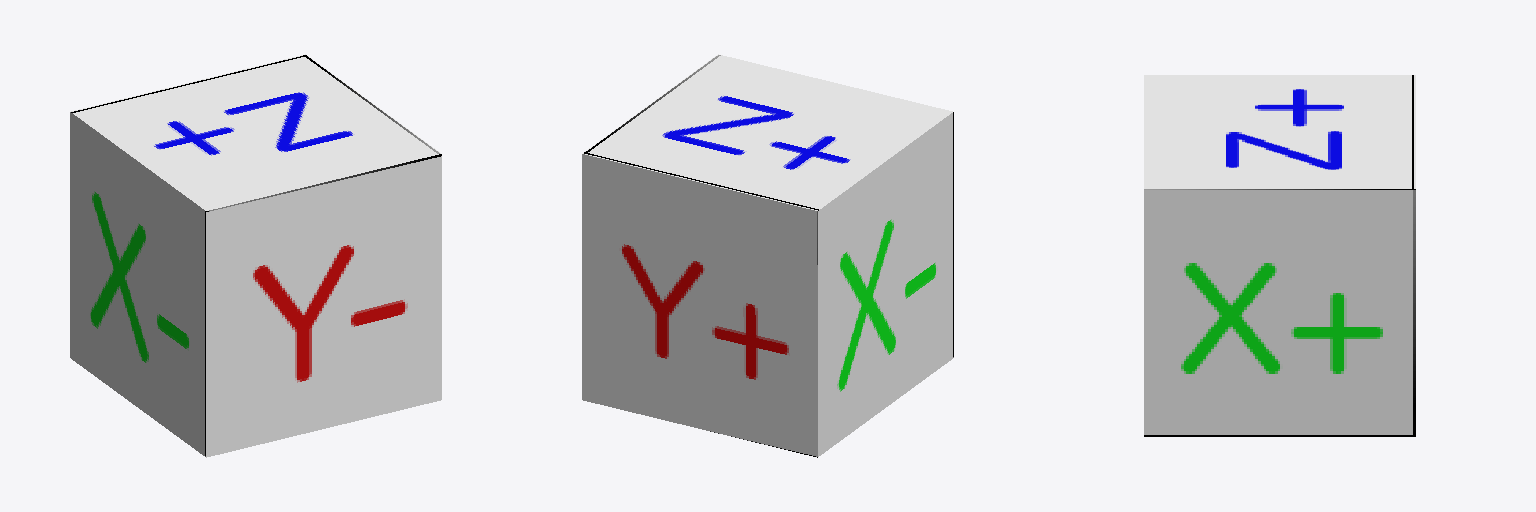
3 views of the same model, side by side, from view 1: azimuth 30°, elevation 25°; view 2: azimuth 150°, elevation 25°; view 3: azimuth 270°, elevation 25° (orthographic).
Visible parts, largest first — view 1: Cube; view 2: Cube; view 3: Cube.
Part boxes in pixels (bbox=[...]): Cube: bbox=[70, 54, 441, 457]; Cube: bbox=[582, 54, 953, 457]; Cube: bbox=[1144, 75, 1415, 436].
Size of the model in its own units: 2 by 2 by 2.
Materials: 1 (1 with a texture image).